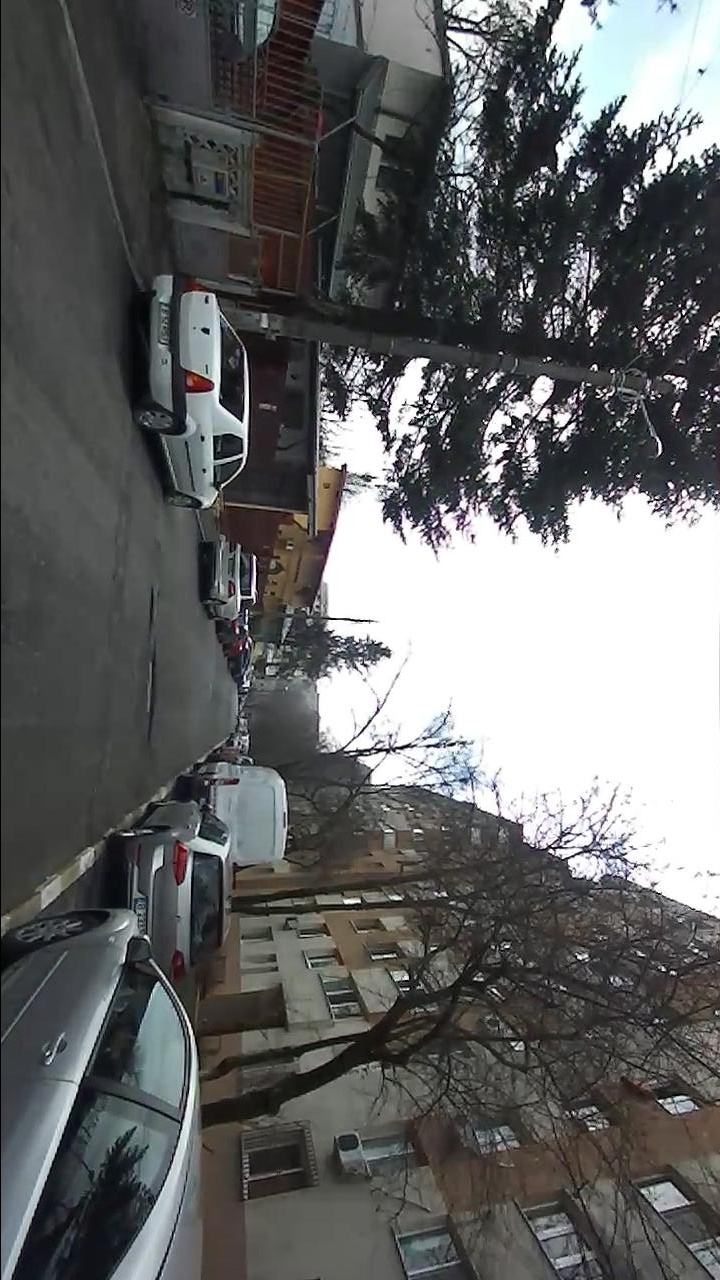pothole: (145, 651, 157, 740), (148, 586, 155, 631)
